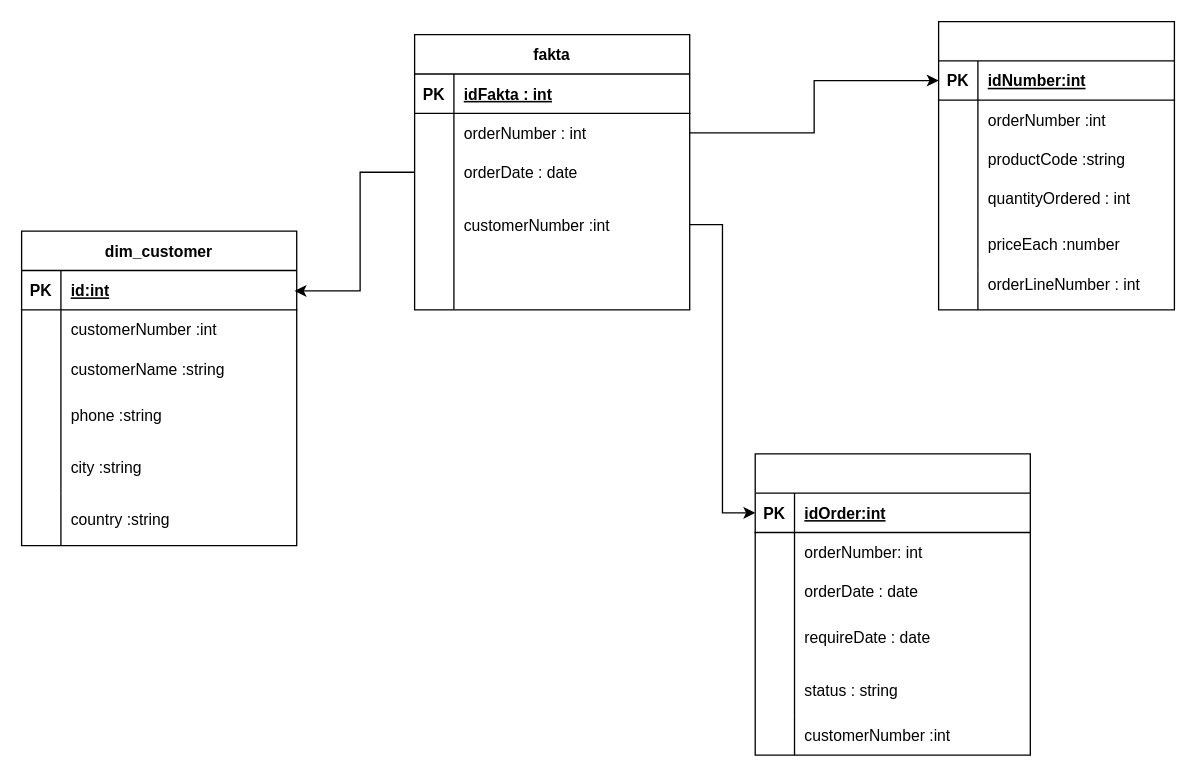
This 1196x777 diagram has some shape labels left out. The shapes that lost their labels are listed below. From the top down, each one's box as (x1, y1, x2, y2) in pixels, then its label:
(937, 20, 1174, 310): dim_orderdetails
(754, 453, 1030, 755): dim_orders
